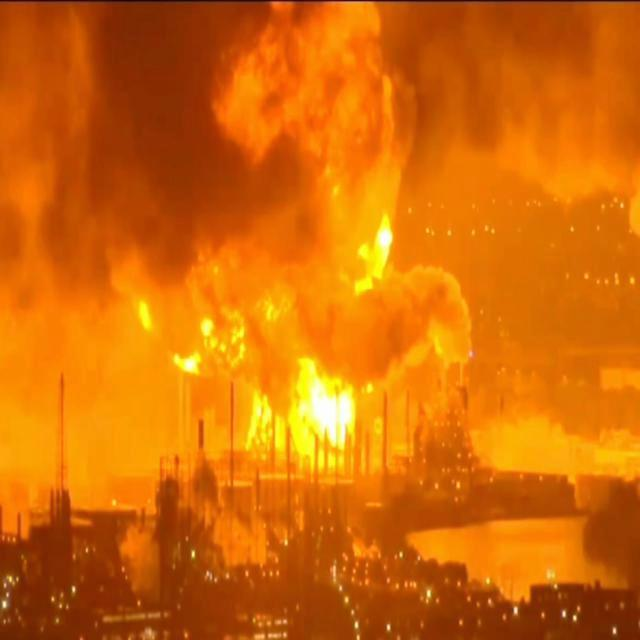fire: (150, 24, 452, 490)
